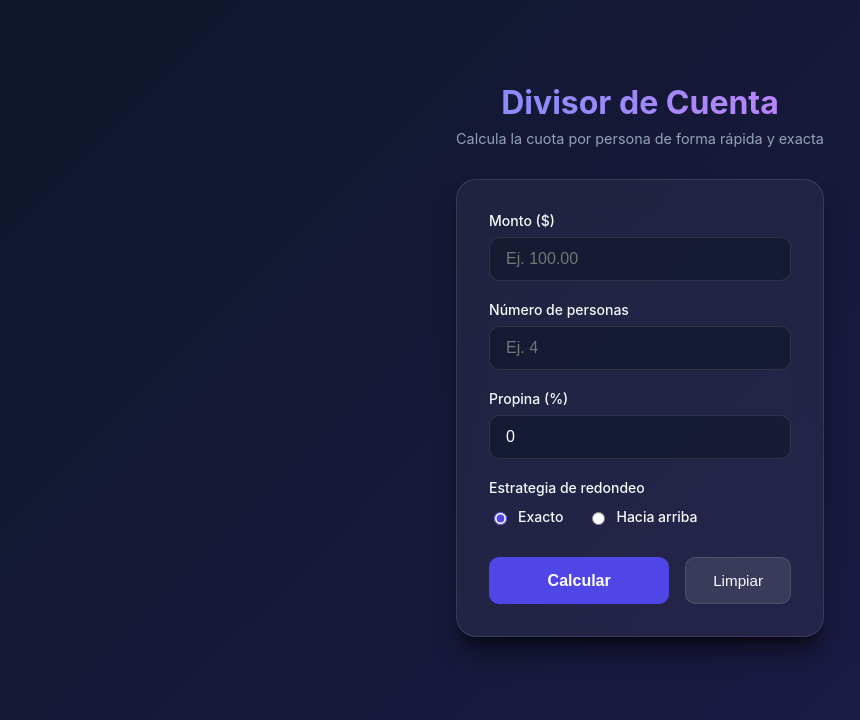
Test: Pruebas de la interfaz de usuario (Pantalla) › 3. Ingreso "abc" en el monto, hago clic en "Calcular" y aparece "Monto inválido"
This screenshot has width=860, height=720.
Type "abc" into the field labelled "Monto ($)".
click(640, 259); type("abc")  # box left=489, top=237, right=791, bottom=281
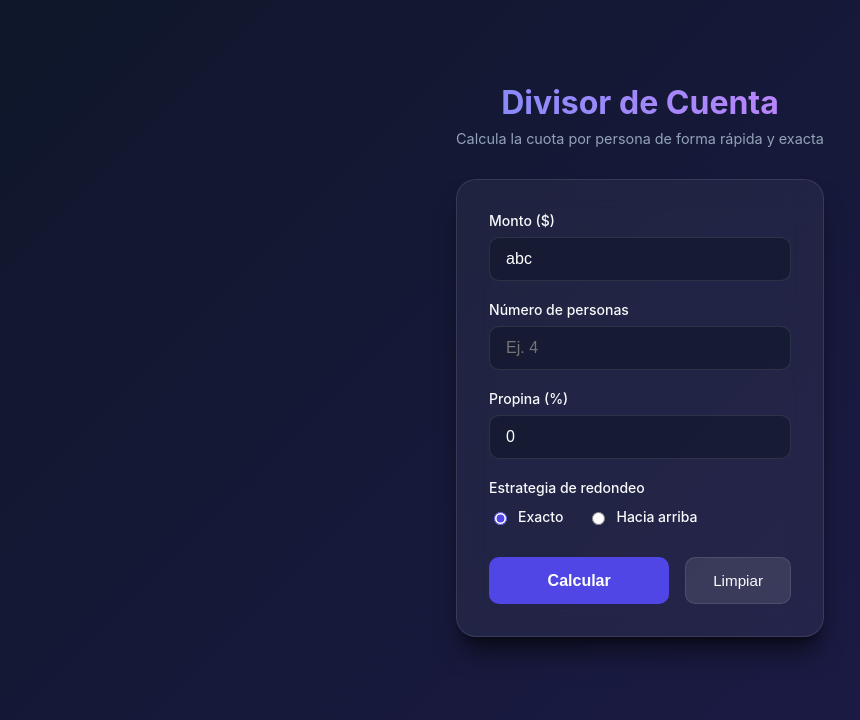
Type "4" into the field labelled "Número de personas".
click(640, 348); type("4")  # box left=489, top=326, right=791, bottom=370
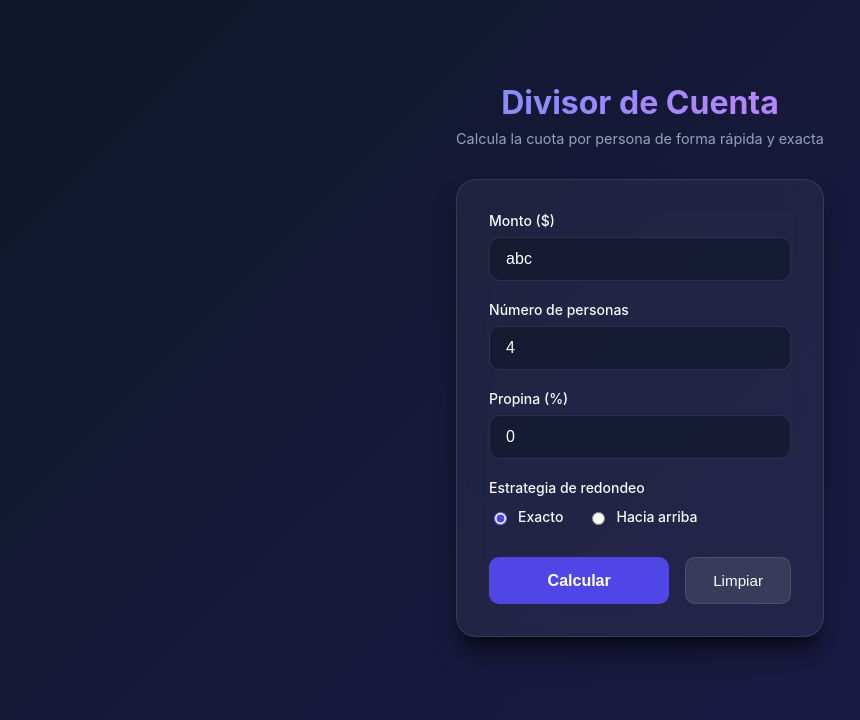
Click the button "Calcular".
click(579, 580)  # box left=489, top=557, right=669, bottom=604
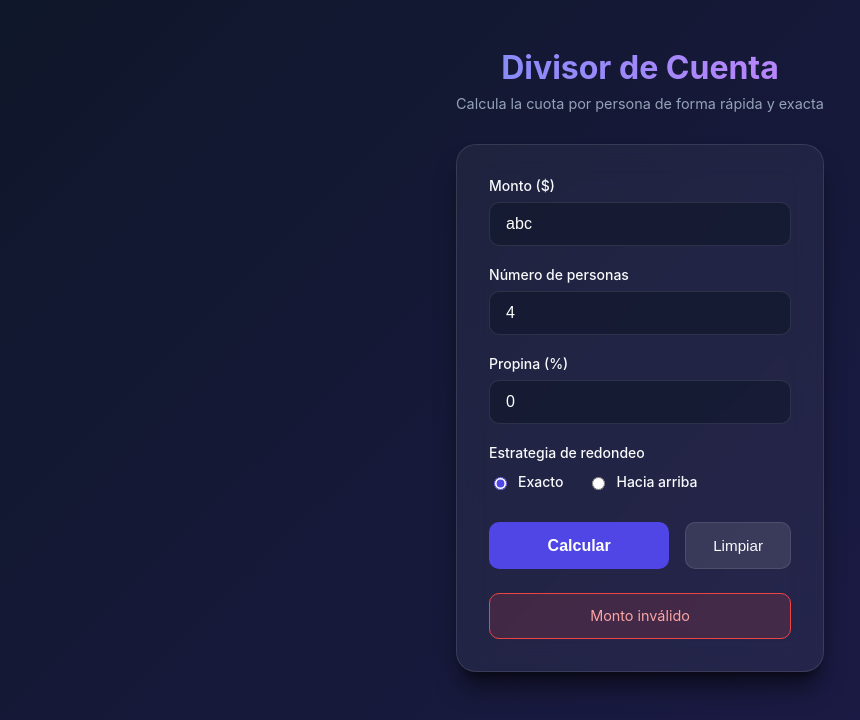
Now the text "Monto inválido" is shown, box left=489, top=592, right=791, bottom=639
